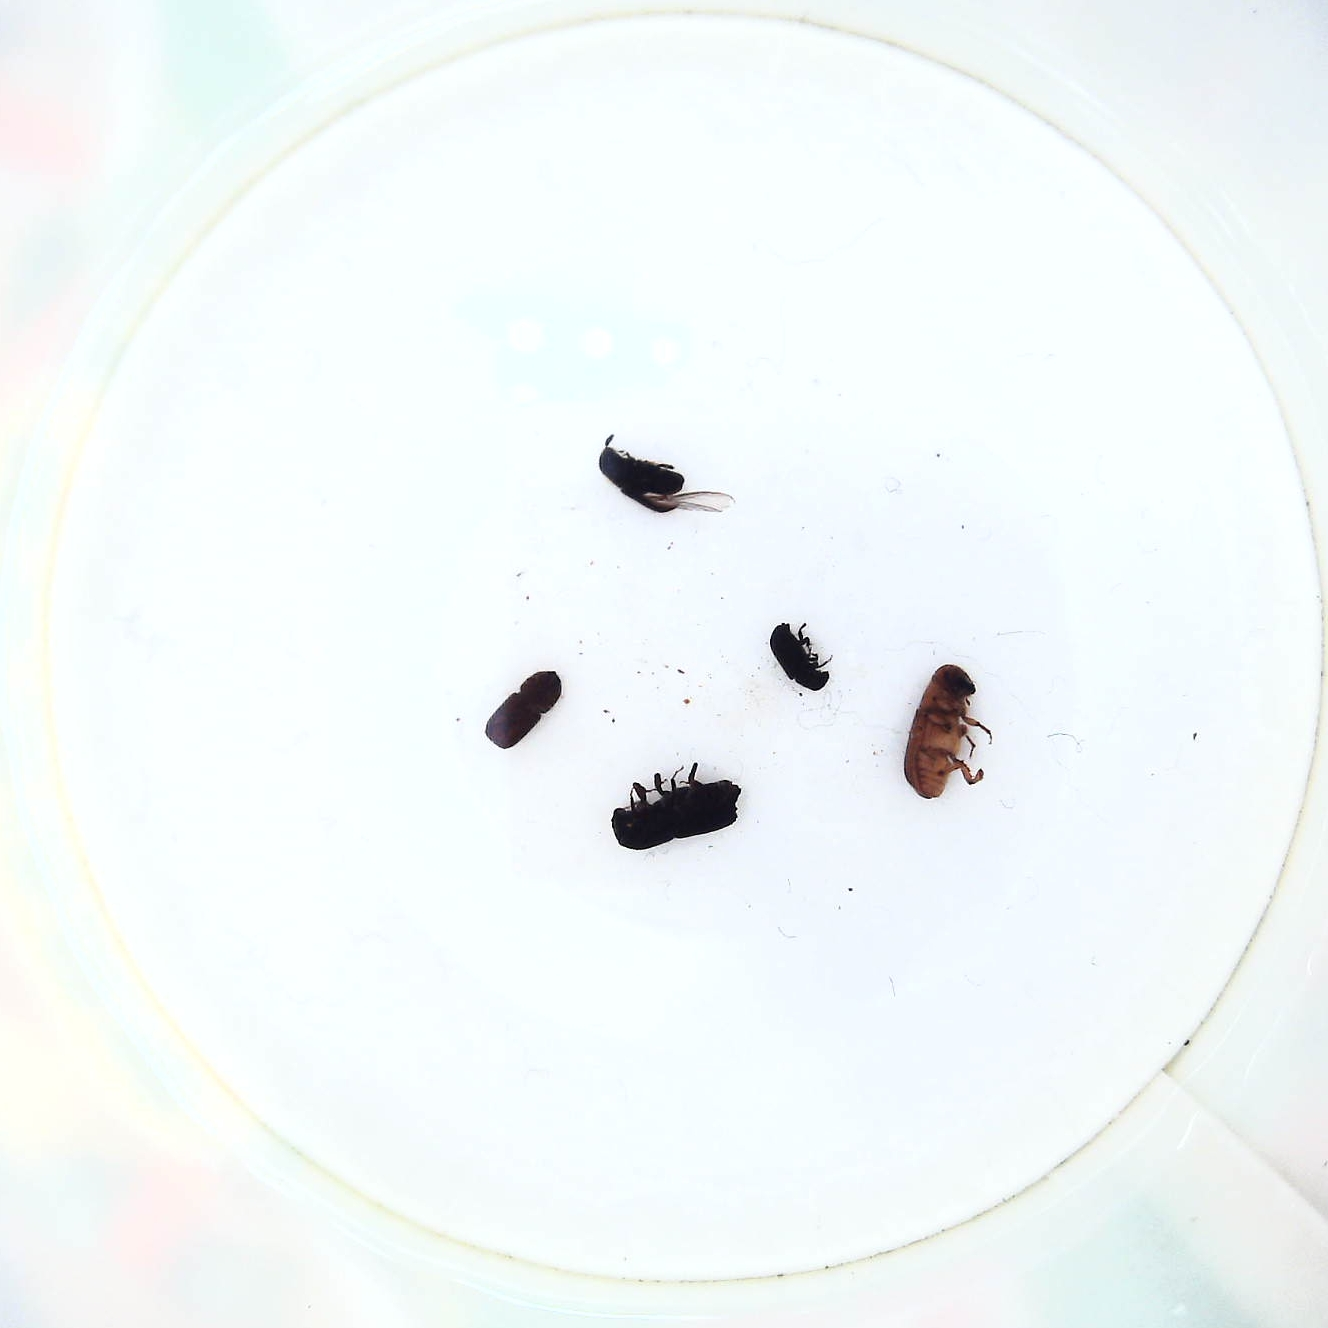Boerner: (606, 767, 745, 855)
Leconte: (901, 657, 998, 806)
armandi: (591, 438, 728, 523)
coleoptera: (767, 613, 833, 699)
linnaeus: (486, 666, 565, 750)
